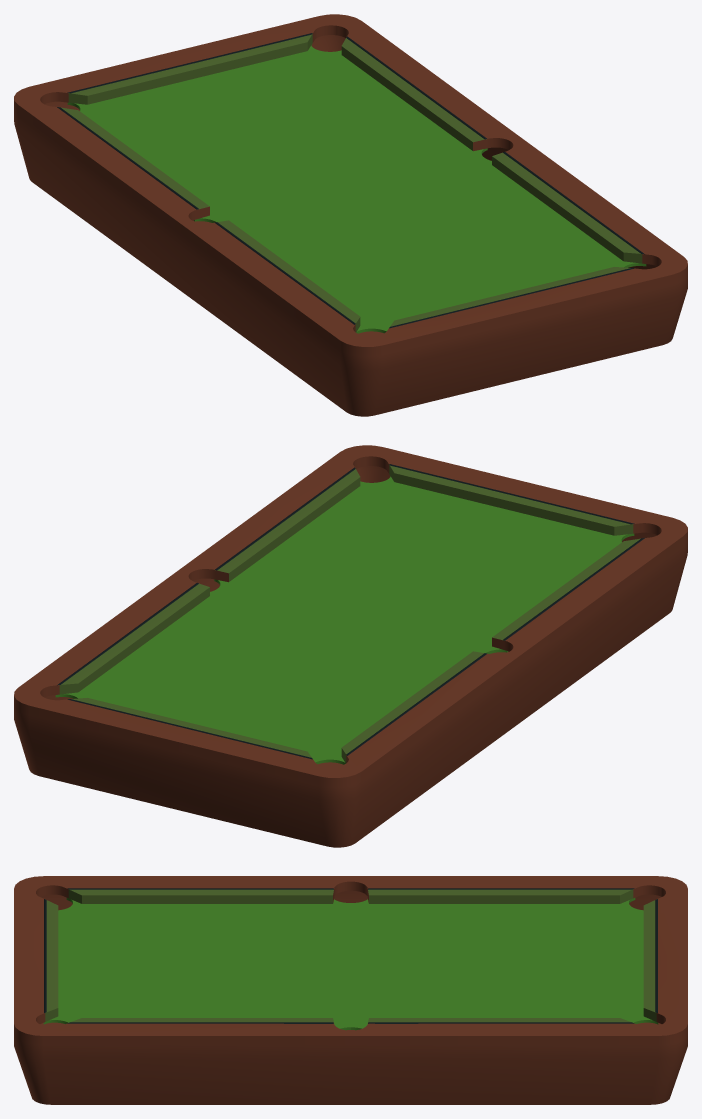
Rendered from Table.fbx.
The picture shows the model from 3 angles, top to bottom: view 1: azimuth 30°, elevation 25°; view 2: azimuth 150°, elevation 25°; view 3: azimuth 270°, elevation 25°; orthographic projection. The views are drawn at different scales.
Parts seen in each view (by area): view 1: Felt, Cushion, Base; view 2: Felt, Cushion, Base; view 3: Felt, Cushion, Base.
Part boxes in pixels (x1,y1,x2,y2): Felt: (67, 45, 646, 333); Cushion: (14, 14, 687, 356); Base: (14, 35, 687, 416); Felt: (55, 476, 634, 764); Cushion: (14, 445, 687, 787); Base: (14, 466, 687, 847); Felt: (43, 898, 658, 1030); Cushion: (14, 876, 687, 1045); Base: (14, 890, 687, 1104).
Size of the model in its own units: 1.28 by 0.2757 by 2.28.
